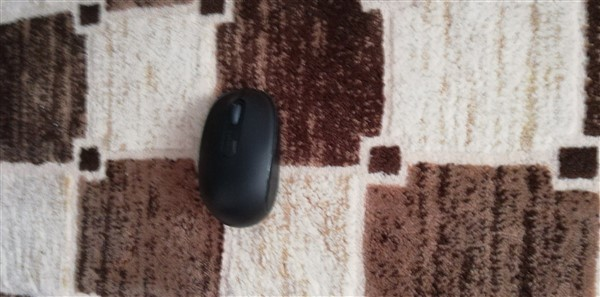mouse: (195, 88, 287, 233)
